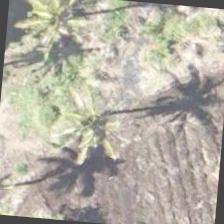Kelapa_Sawit: (36, 92, 134, 190), (12, 0, 109, 76)
